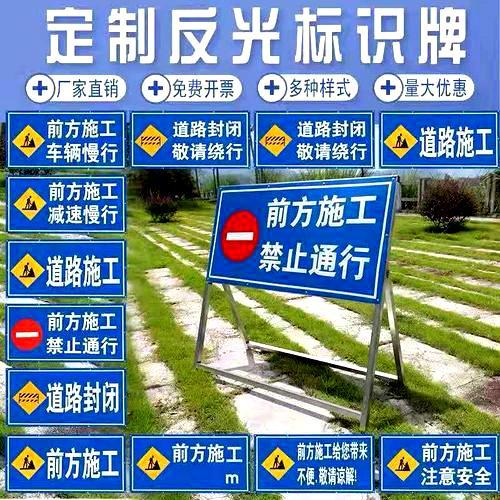sign: (210, 179, 392, 295), (8, 177, 125, 232), (9, 304, 123, 360), (6, 112, 124, 166), (6, 434, 124, 488), (132, 113, 248, 167), (382, 111, 498, 165), (383, 437, 496, 492), (131, 437, 248, 490), (256, 438, 372, 491), (6, 371, 126, 422), (8, 241, 123, 294), (256, 113, 369, 165)
